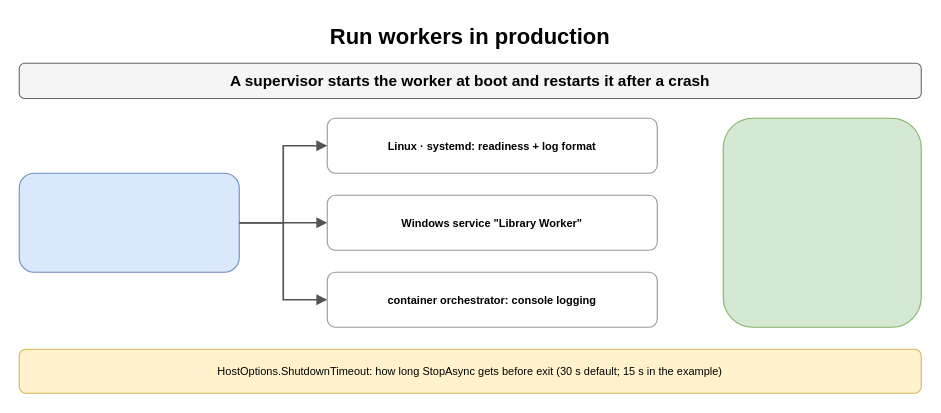
Some shapes in this 941 by 413 pixel diagram are drawn without their labels. The centre of each missing label's shape, as x and y in pixels:
"calls do nothing when not under that service manager: one build everywhere" belongs at (821,222).
"worker AddSystemd() AddWindowsService(...)" belongs at (128,222).
